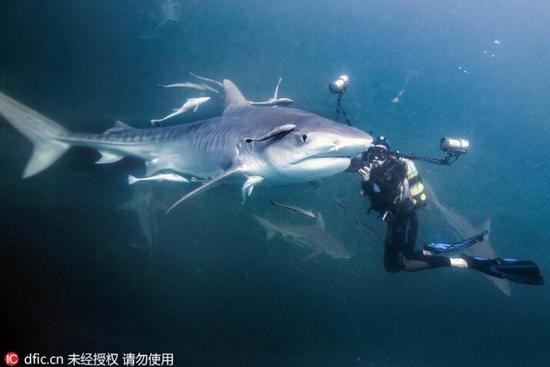shark: (1, 78, 373, 220)
